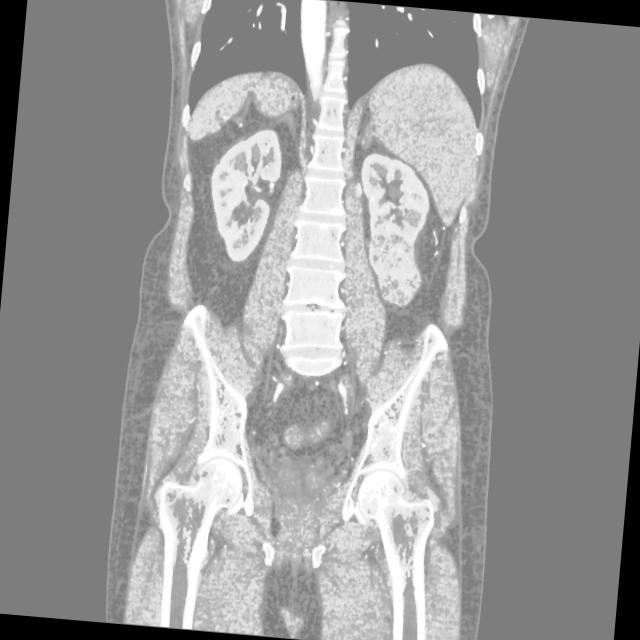TUMOR: (163, 135, 475, 315)
